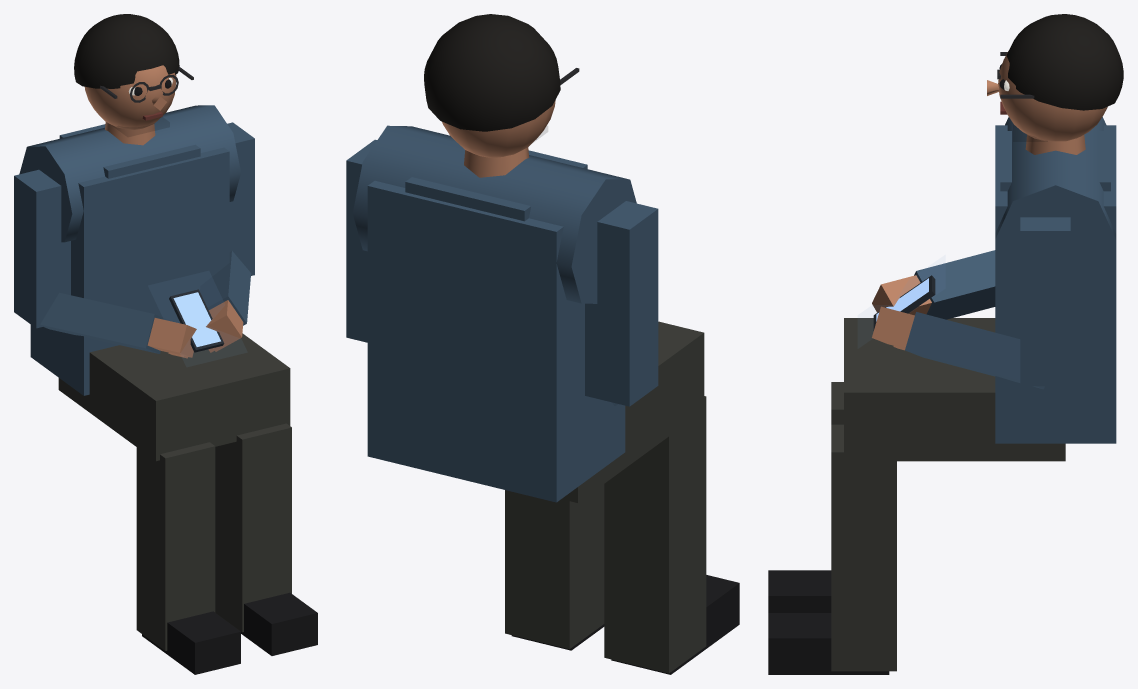
File: dad.glb
The picture shows the model from 3 angles, left to right: view 1: azimuth 30°, elevation 25°; view 2: azimuth 150°, elevation 25°; view 3: azimuth 270°, elevation 25°; orthographic projection. The views are drawn at different scales.
Visible parts, largest first — view 1: dad, Head, Head_Skin, Body_Skin, Phone; view 2: dad, Head, Head_Skin, Body_Skin; view 3: dad, Head, Head_Skin, Body_Skin, Phone.
Part boxes in pixels (x1,y1,x2,y2): dad: [14, 105, 317, 674]; Head: [74, 14, 193, 136]; Head_Skin: [84, 65, 176, 129]; Body_Skin: [105, 122, 243, 358]; Phone: [169, 289, 224, 352]; dad: [346, 125, 739, 674]; Head: [424, 14, 579, 138]; Head_Skin: [442, 100, 555, 157]; Body_Skin: [464, 147, 529, 177]; dad: [768, 117, 1116, 674]; Head: [997, 14, 1123, 141]; Head_Skin: [987, 51, 1107, 141]; Body_Skin: [872, 134, 1085, 350]; Phone: [873, 275, 935, 330].
Bounding box in the file's own units: 0.57 × 1.36 × 0.7048.
